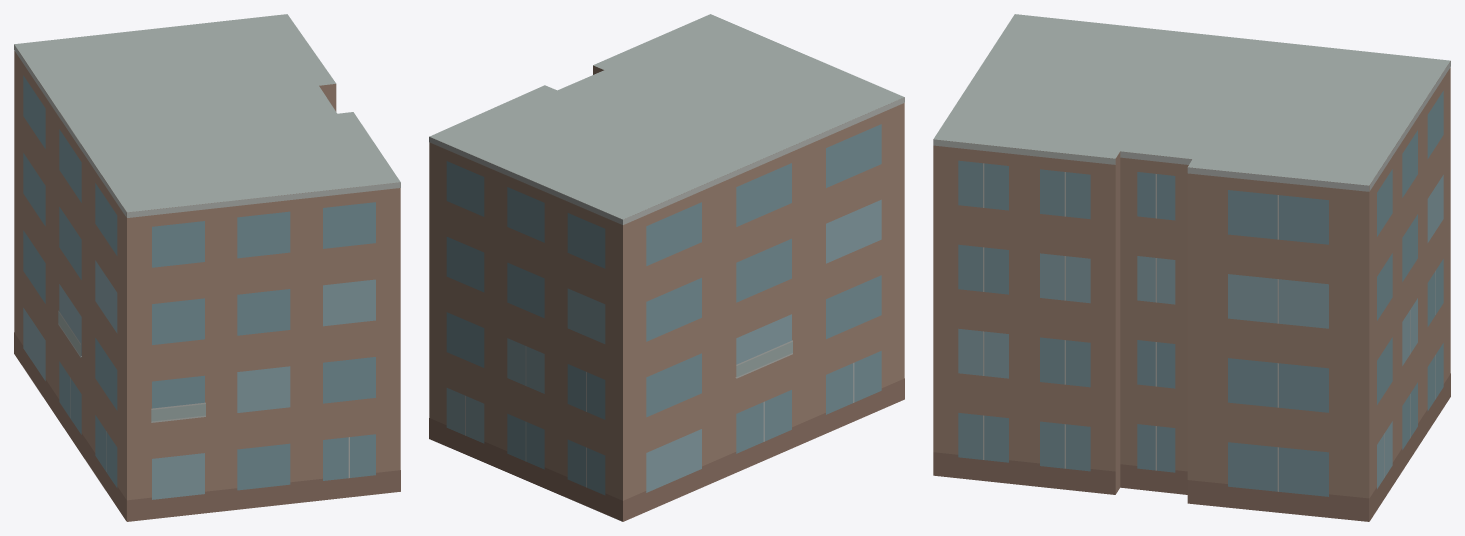
Rendered from survey-upis-32964939.glb.
The picture shows the model from 3 angles, left to right: view 1: azimuth 30°, elevation 25°; view 2: azimuth 150°, elevation 25°; view 3: azimuth 270°, elevation 25°; orthographic projection. The views are drawn at different scales.
Parts seen in each view (by area): view 1: survey-upis-32964939.tmp; view 2: survey-upis-32964939.tmp; view 3: survey-upis-32964939.tmp.
Part boxes in pixels (x1,y1,x2,y2): survey-upis-32964939.tmp: [14, 14, 400, 521]; survey-upis-32964939.tmp: [429, 14, 904, 521]; survey-upis-32964939.tmp: [933, 14, 1450, 521].
Size of the model in its own units: 14.52 by 13.25 by 18.49.
